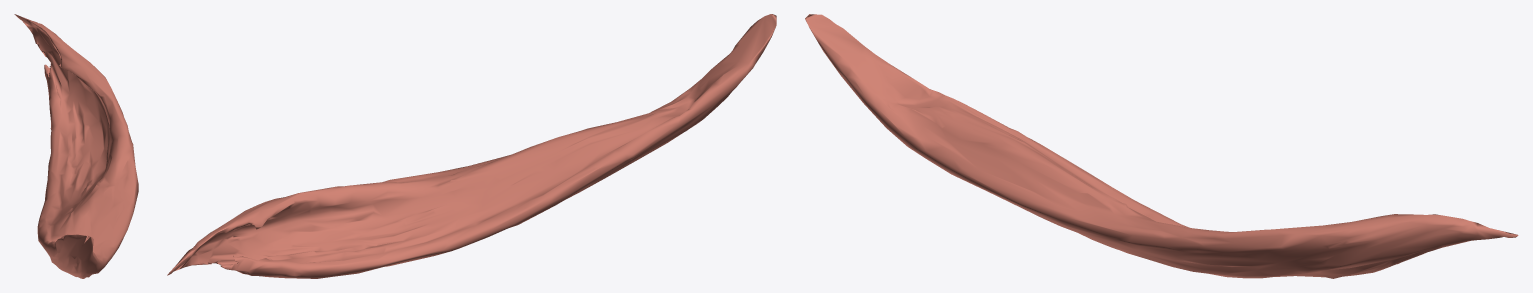
3 renders of one model, left to right at view 1: azimuth 30°, elevation 25°; view 2: azimuth 150°, elevation 25°; view 3: azimuth 270°, elevation 25°, orthographic. The views are drawn at different scales.
Parts seen in each view (by area): view 1: 左侧旋前圆肌肱头; view 2: 左侧旋前圆肌肱头; view 3: 左侧旋前圆肌肱头.
Part boxes in pixels (bbox=[...]): 左侧旋前圆肌肱头: bbox=[14, 14, 138, 278]; 左侧旋前圆肌肱头: bbox=[167, 14, 776, 278]; 左侧旋前圆肌肱头: bbox=[805, 14, 1518, 278].
Size of the model in its own units: 0.1063 by 0.0531 by 0.2219.
